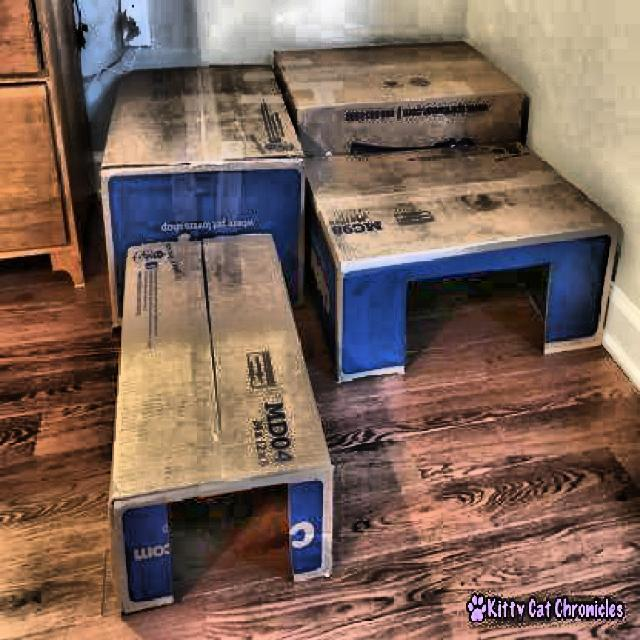Cardbox: (84, 217, 342, 596), (289, 153, 640, 390)
